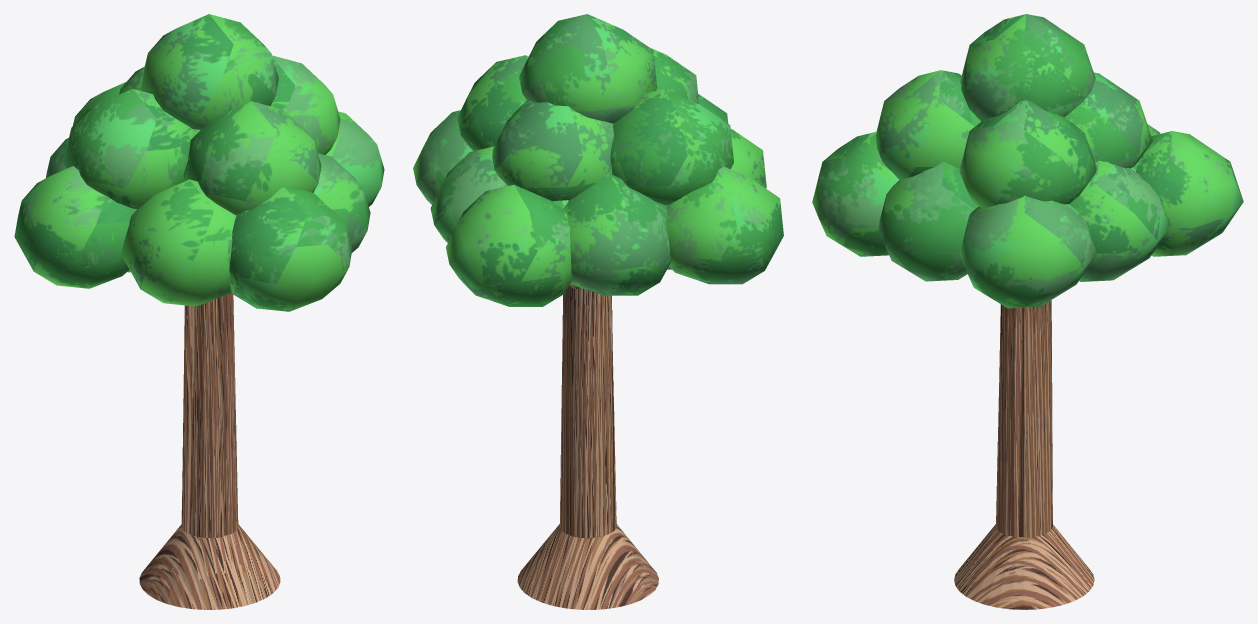
Rendered from Tree.fbx.
3 renders of one model, left to right at view 1: azimuth 30°, elevation 25°; view 2: azimuth 150°, elevation 25°; view 3: azimuth 270°, elevation 25°, orthographic.
Parts seen in each view (by area): view 1: Tree; view 2: Tree; view 3: Tree.
Boxes of the visible parts, left/top/right/bottom form: Tree: left=14, top=14, right=384, bottom=609; Tree: left=413, top=14, right=783, bottom=609; Tree: left=812, top=14, right=1243, bottom=609.
Size of the model in its own units: 801 by 1246 by 861.
2 materials, 2 textured.
